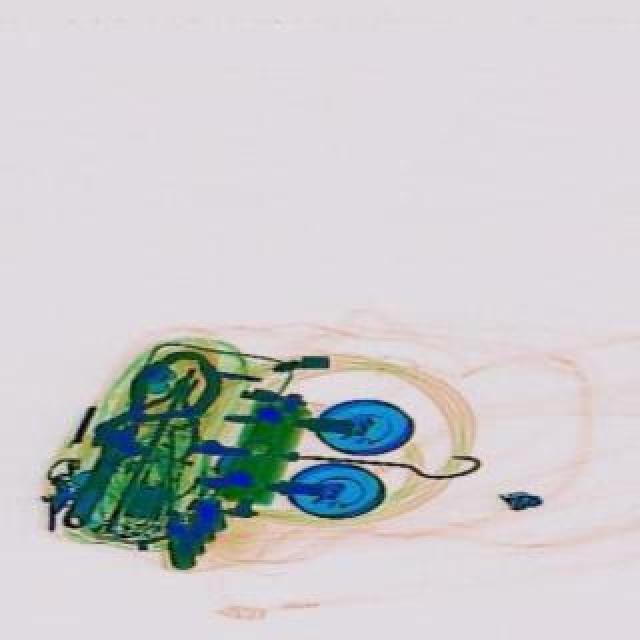scissors: (50, 410, 166, 542)
wrench: (102, 348, 240, 476)
